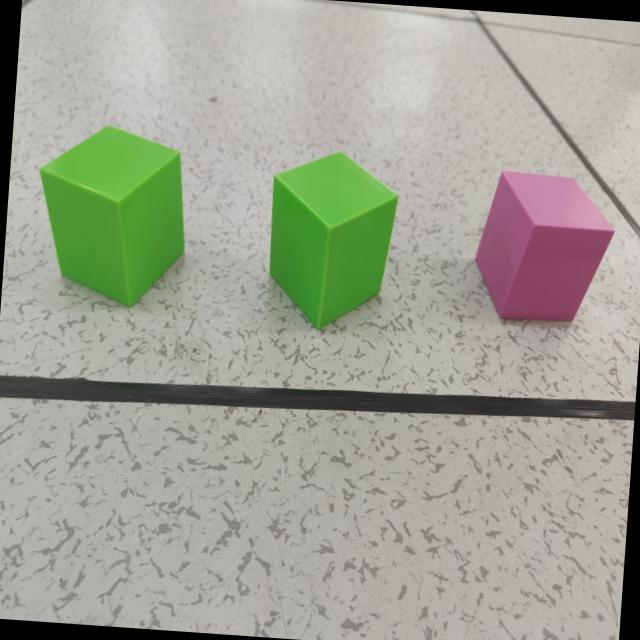green: (37, 127, 185, 309), (267, 153, 398, 330)
pink: (474, 170, 614, 325)
